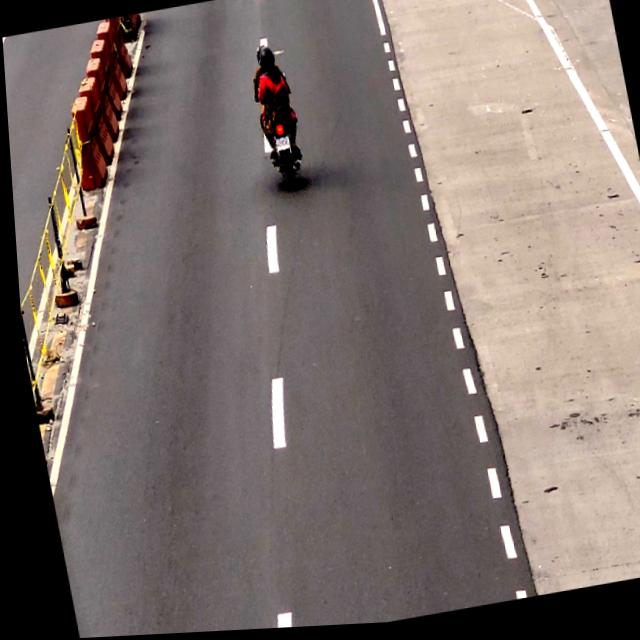License-Plate: (272, 137, 290, 155)
Motorcycle: (241, 41, 305, 197)
